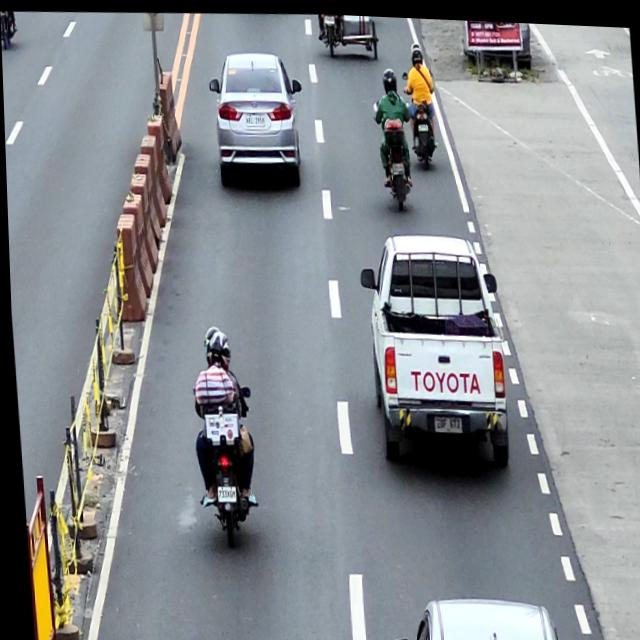Car: (355, 227, 510, 469), (206, 47, 307, 187), (379, 586, 578, 640)
License-Plate: (431, 412, 459, 429), (214, 483, 232, 500), (244, 111, 264, 126), (390, 159, 403, 169), (324, 12, 335, 20), (417, 120, 427, 128)
Motorcycle: (189, 380, 257, 548), (371, 94, 415, 209), (401, 64, 439, 169)
Tricycle: (319, 11, 378, 57)
